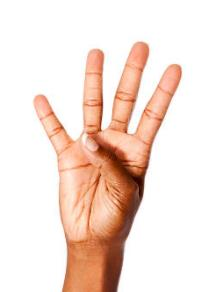right: (28, 38, 184, 249)
